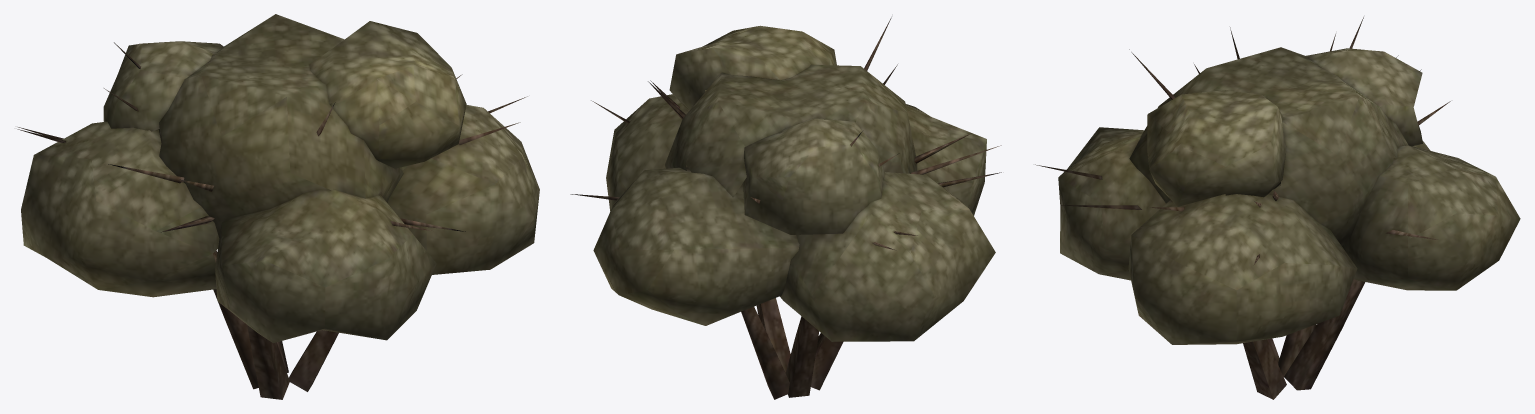
Rendered from scrub.glb.
The picture shows the model from 3 angles, left to right: view 1: azimuth 30°, elevation 25°; view 2: azimuth 150°, elevation 25°; view 3: azimuth 270°, elevation 25°; orthographic projection. The views are drawn at different scales.
Parts seen in each view (by area): view 1: root_mesh; view 2: root_mesh; view 3: root_mesh.
Part boxes in pixels (box(x1,y1,x2,y2)): root_mesh: box(17, 14, 539, 399); root_mesh: box(570, 17, 1001, 399); root_mesh: box(1035, 17, 1520, 399).
Bounding box in the file's own units: 0.8586 × 0.6523 × 0.8838.
1 material, 1 textured.
